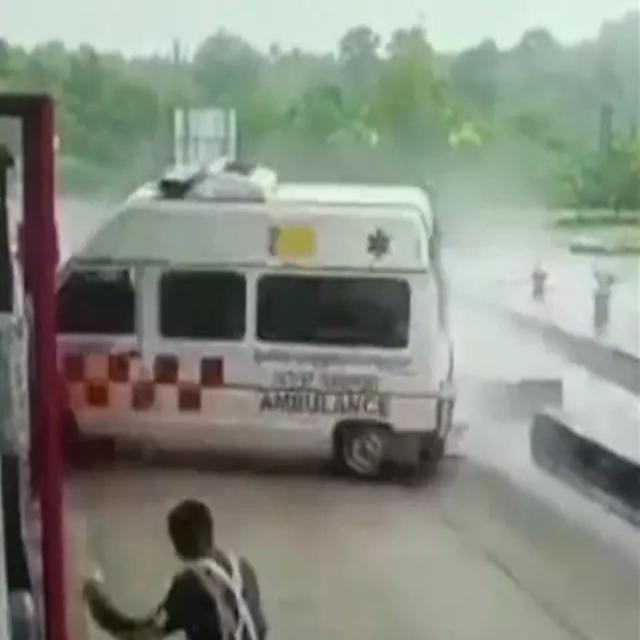emergency: (58, 160, 455, 476)
